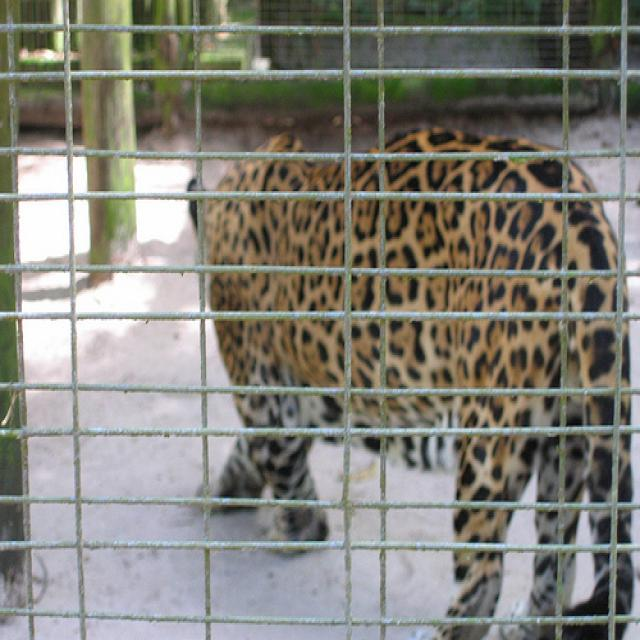Leopard: (182, 126, 631, 637)
